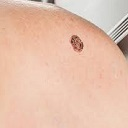Carcinoma: (67, 33, 90, 56)
